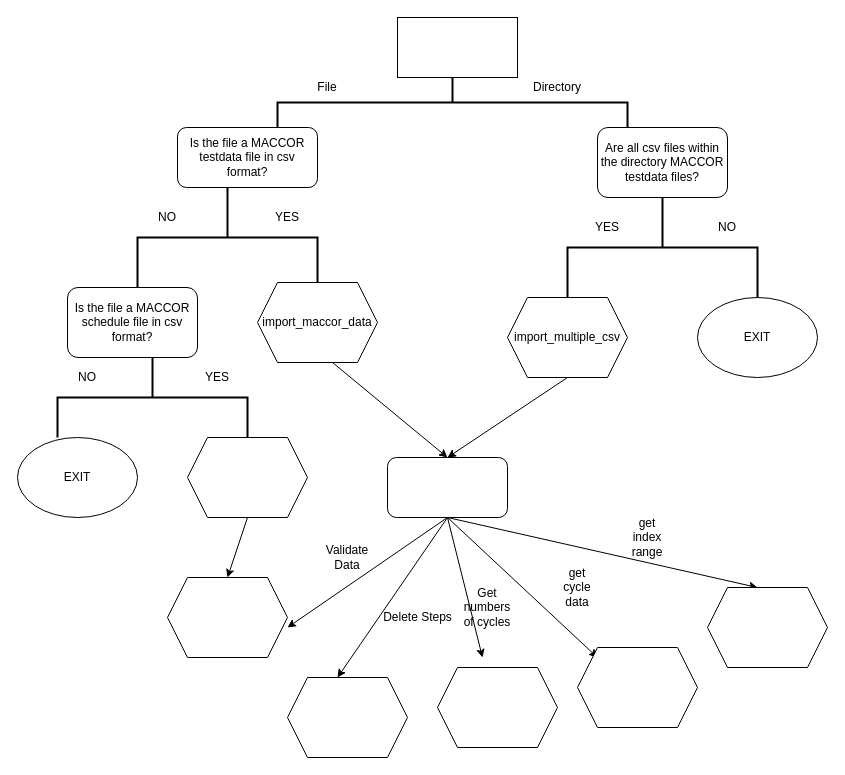
This 845x775 diagram has some shape labels left out. Each missing label, with the centre of its shape:
"Enter a file or directory" goes at (x=457, y=47).
"import_schedules" goes at (x=247, y=477).
"What do you want to do with the testdata?" goes at (x=447, y=487).
